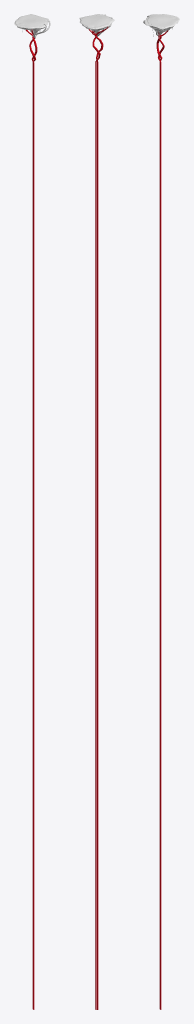
The model's file is Isle_Static_Boss.fbx.
The picture shows the model from 3 angles, left to right: view 1: azimuth 90°, elevation 25°; view 2: azimuth 150°, elevation 25°; view 3: azimuth 270°, elevation 25°; orthographic projection.
Parts seen in each view (by area): view 1: Isle_Static_Boss_Roots, Isle_Static_Boss_Land; view 2: Isle_Static_Boss_Roots, Isle_Static_Boss_Land; view 3: Isle_Static_Boss_Roots, Isle_Static_Boss_Land.
Part boxes in pixels (bbox=[...]): Isle_Static_Boss_Roots: bbox=[22, 21, 50, 1009]; Isle_Static_Boss_Land: bbox=[14, 14, 49, 33]; Isle_Static_Boss_Roots: bbox=[89, 14, 112, 1009]; Isle_Static_Boss_Land: bbox=[79, 14, 114, 33]; Isle_Static_Boss_Roots: bbox=[143, 15, 172, 1009]; Isle_Static_Boss_Land: bbox=[144, 14, 179, 35].
Bounding box in the file's own units: 7975 × 245925 × 8185.
